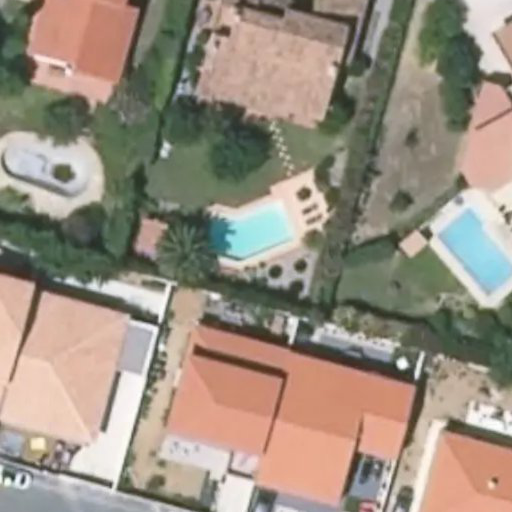pool: (199, 224, 306, 264)
